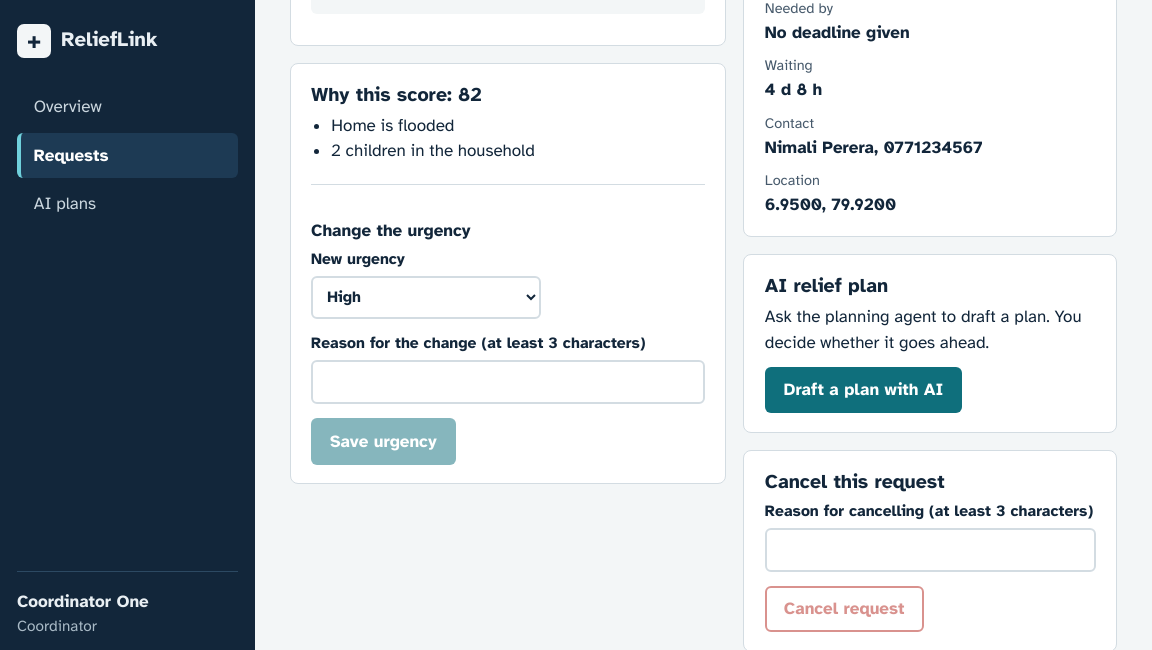
Scenario: Request detail › shows the server's message when an action is refused
(page scrolled)
Step 1. Click the button "Draft a plan with AI" → [864, 390], box x1=765 y1=367 x2=962 y2=413
(page scrolled)
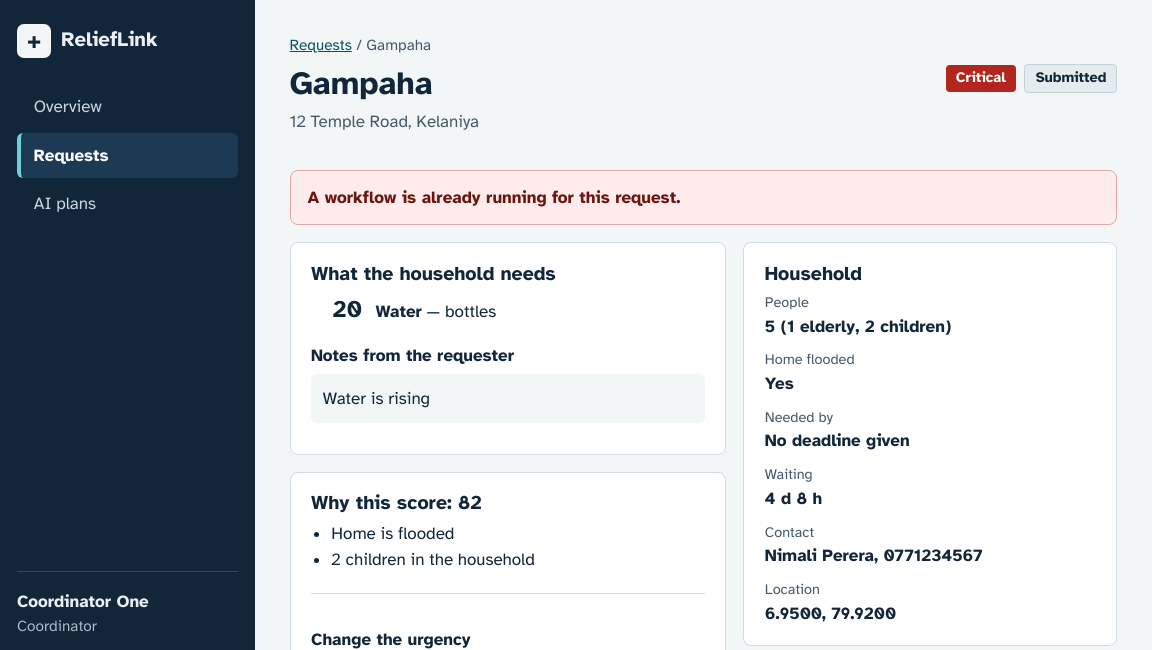
Expected: the message shows "A workflow is already running", x1=308 y1=187 x2=680 y2=208
